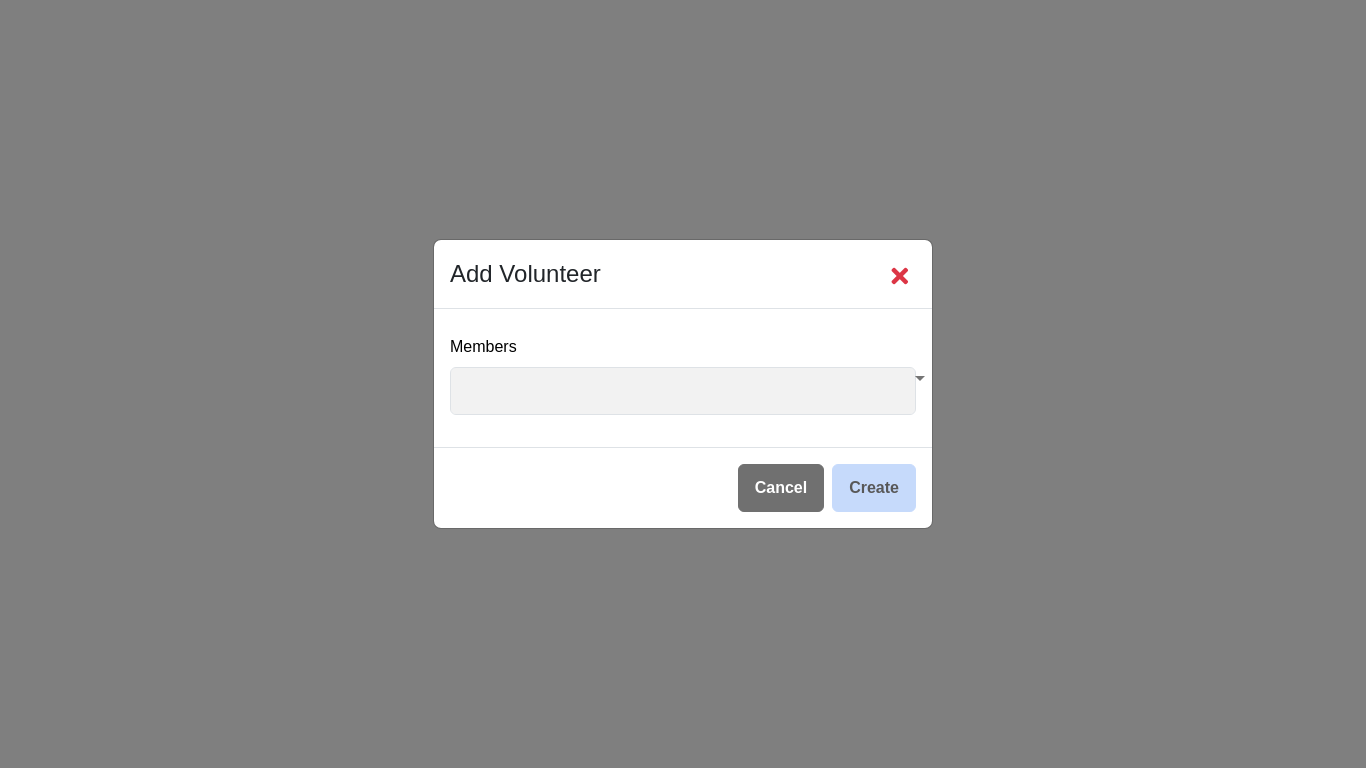
it: Testing VolunteerCreateModal › should handle isOptionEqualToValue for members Autocomplete
Check: the text "Add Volunteer" is shown, box [450,256,601,292]
Select a member
Click the dropdown at (683, 391), box [450,367,916,415]
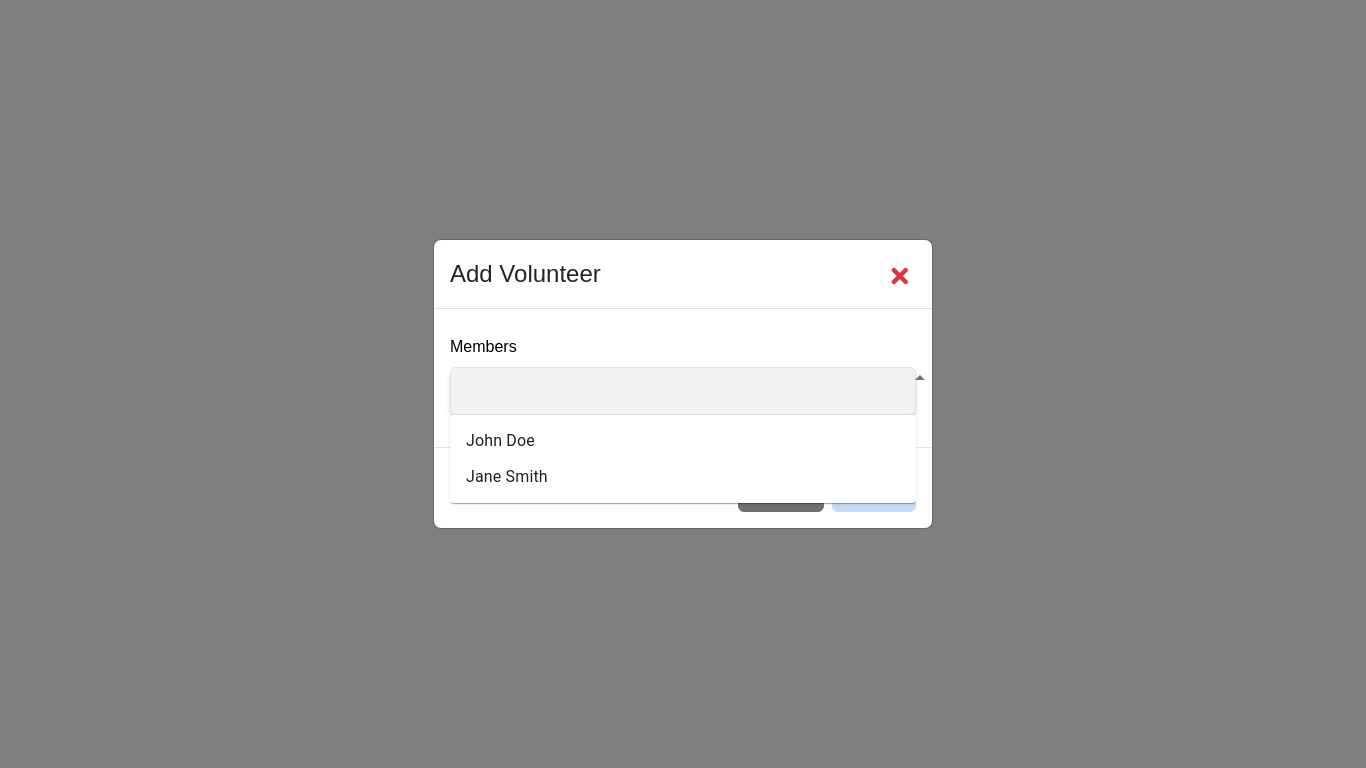
Click the option "John Doe" at (500, 440), box [466,431,535,450]
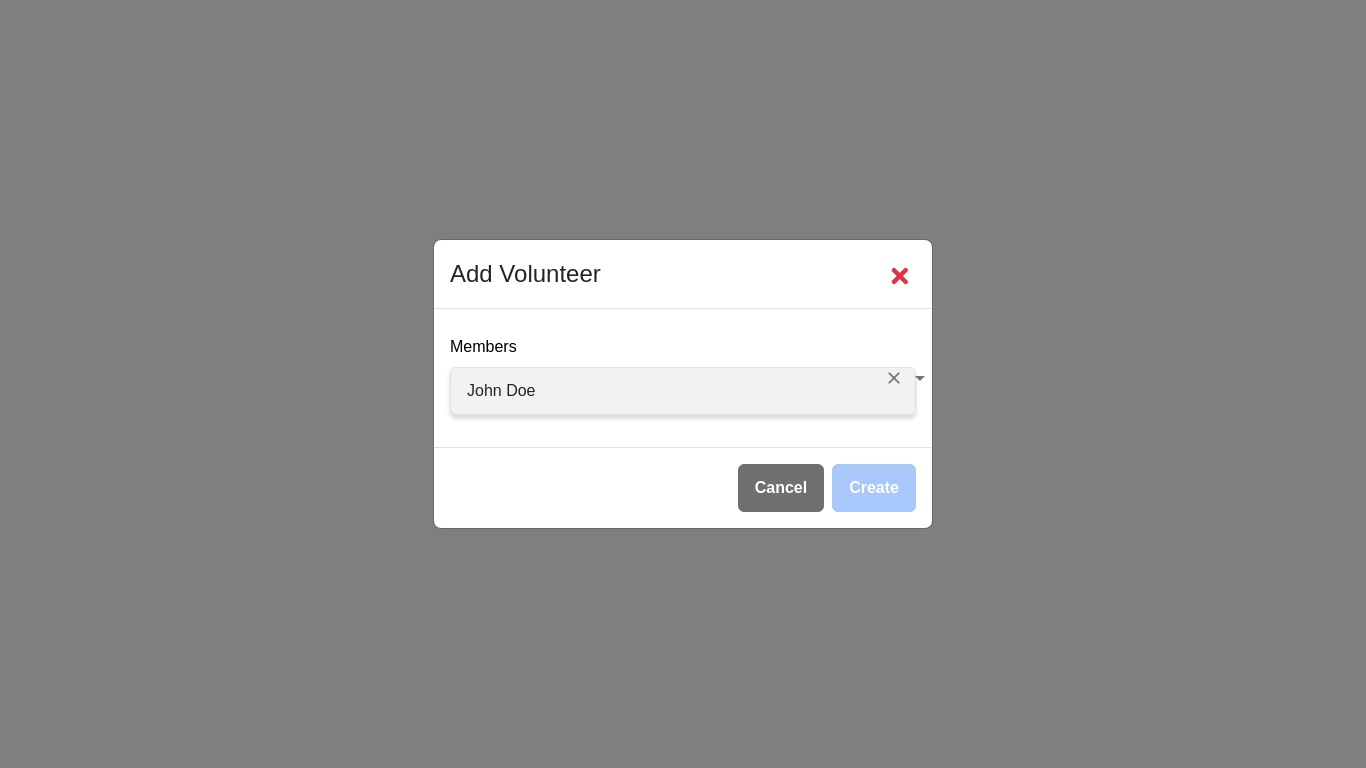
Check: the dropdown holds "John Doe"
Open again: since filterSelectedOptions is true, the selected option should be filtered out
Click the dropdown at (683, 391), box [450,367,916,415]
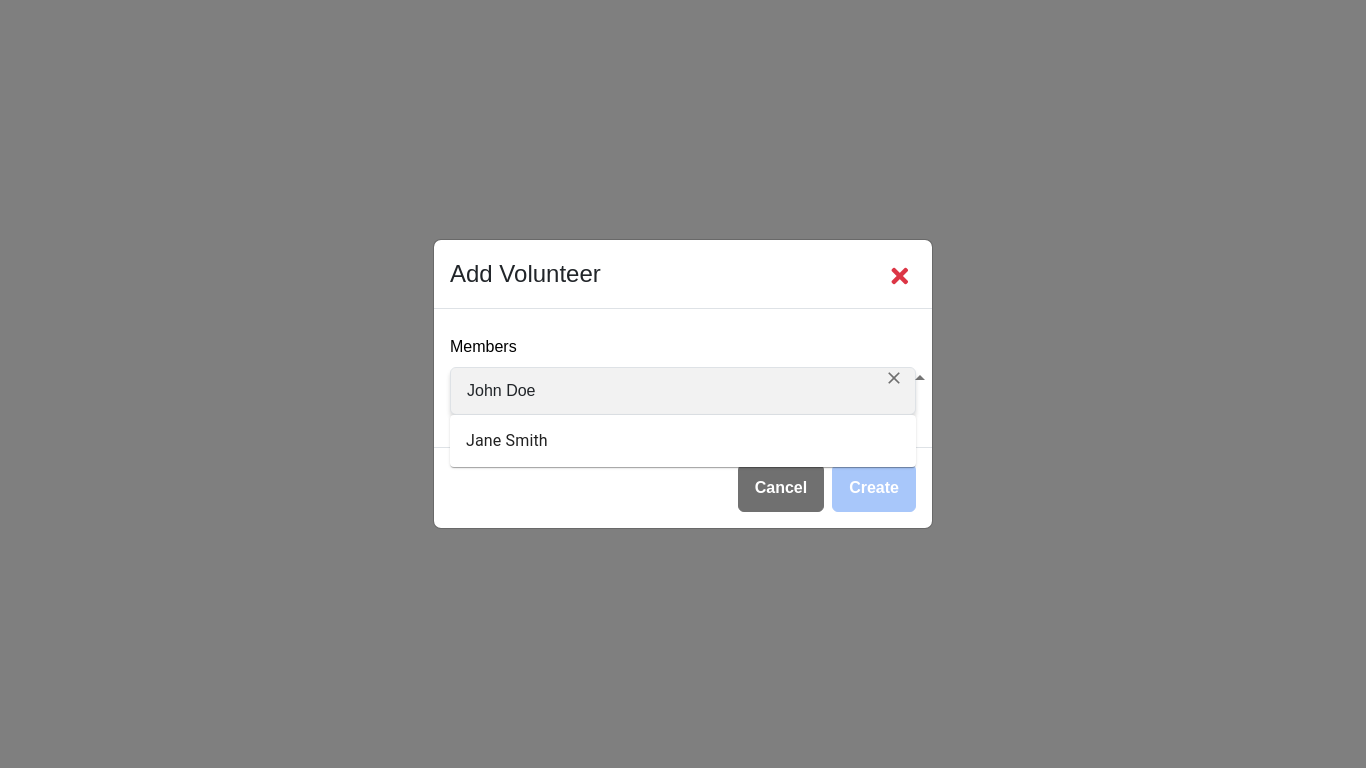
Check: the dropdown holds "John Doe", box [450,367,916,415]
Check: the option "Jane Smith" is shown, box [466,431,548,450]
